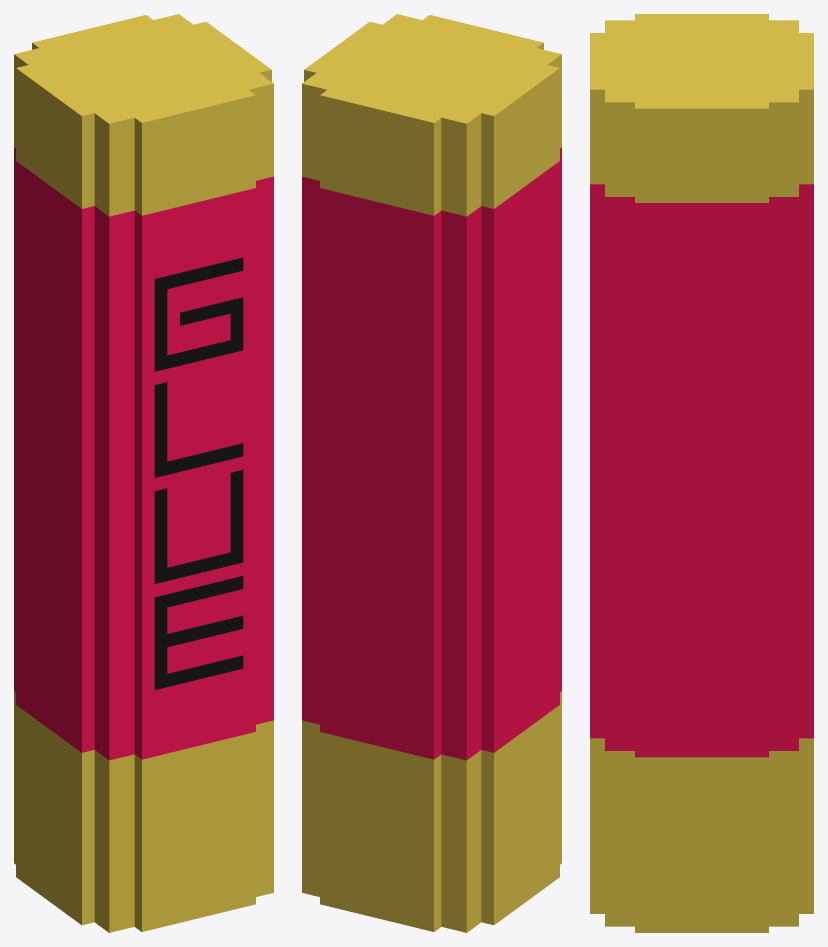
The model's file is glue_2_1.4.obj.
3 renders of one model, left to right at view 1: azimuth 30°, elevation 25°; view 2: azimuth 150°, elevation 25°; view 3: azimuth 270°, elevation 25°, orthographic.
Size of the model in its own units: 1.5 by 6.1 by 1.5.
1 material, 1 textured.
